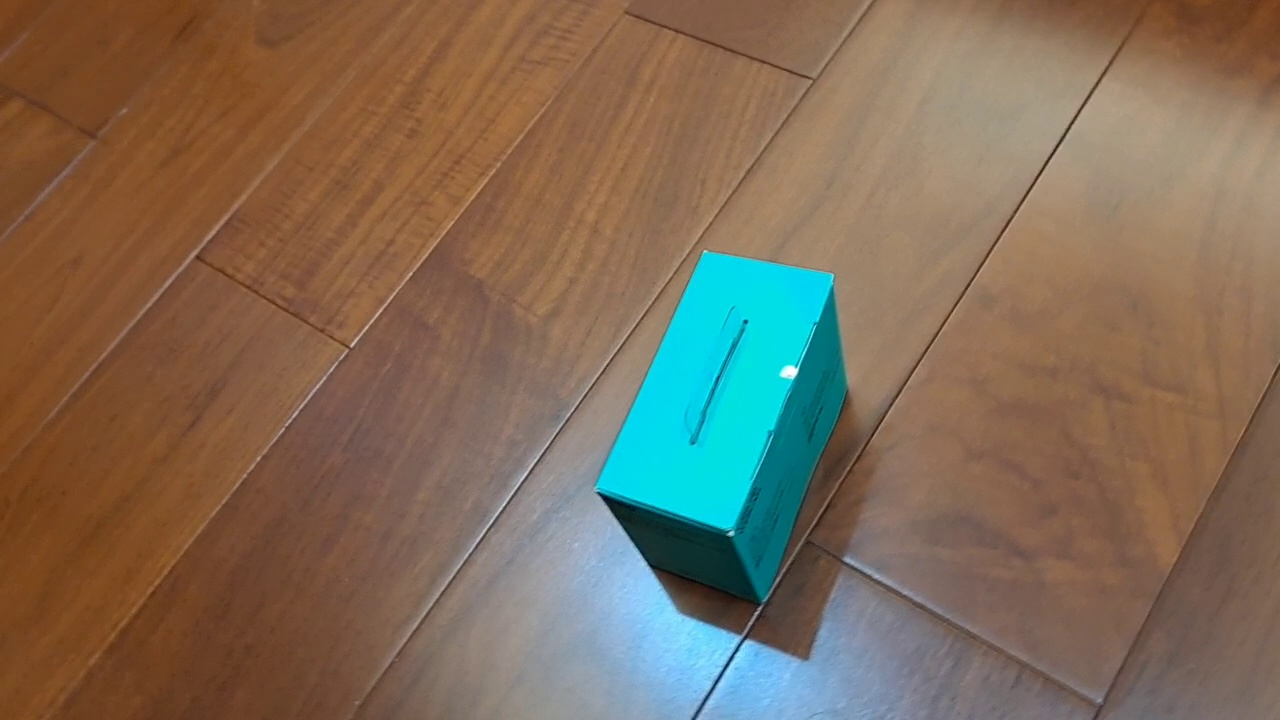webcam: (592, 248, 850, 606)
